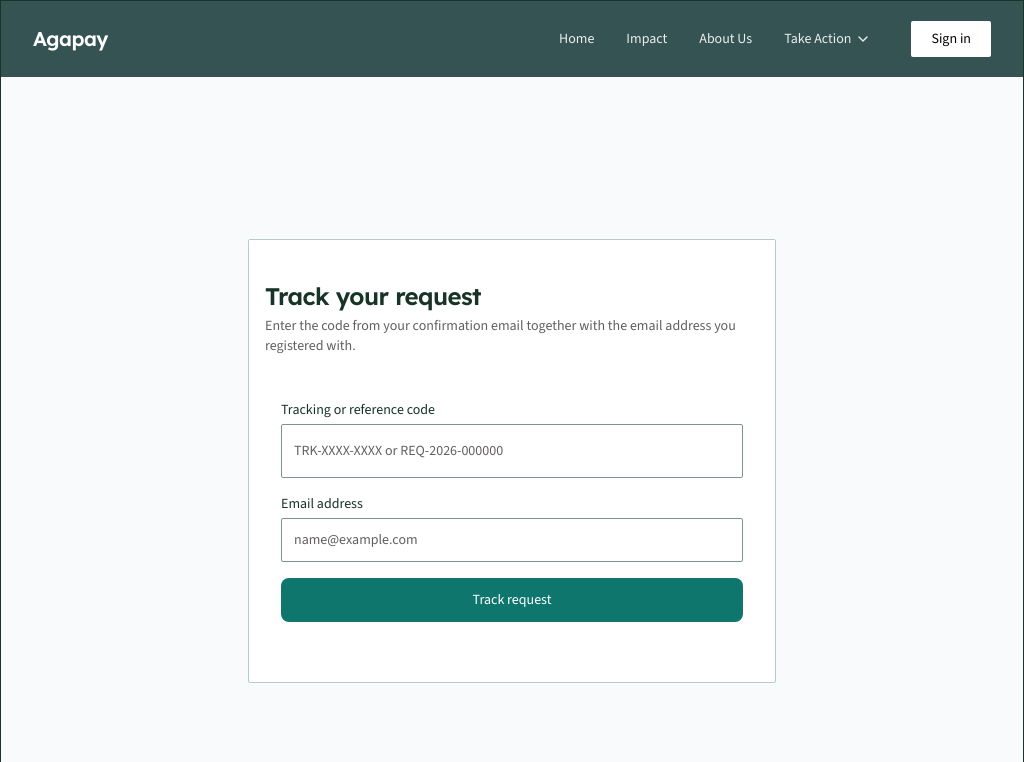
Test case: TrackAssistancePage › shows status, timeline, and pickup schedule for a match
Type "TRK-82K4-19Q7" into the field labelled "Tracking or reference code" at (512, 451), box top-left (281, 424), bottom-right (743, 478)
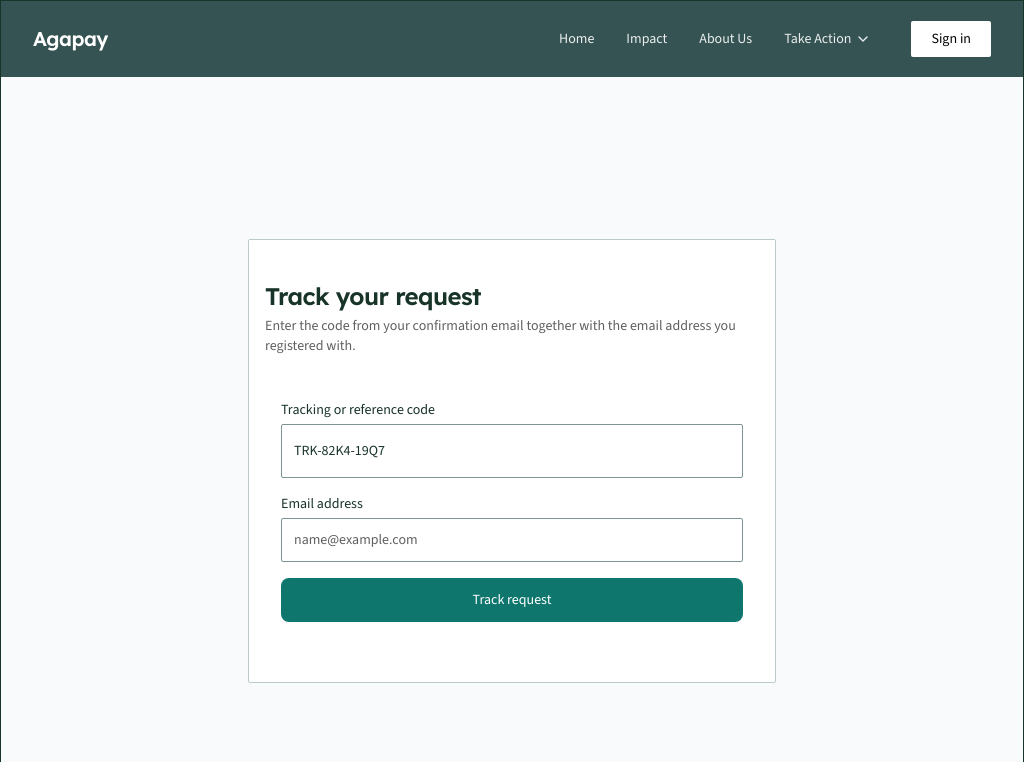
Type "maria@example.com" into the field labelled "Email address" at (512, 540), box top-left (281, 518), bottom-right (743, 562)
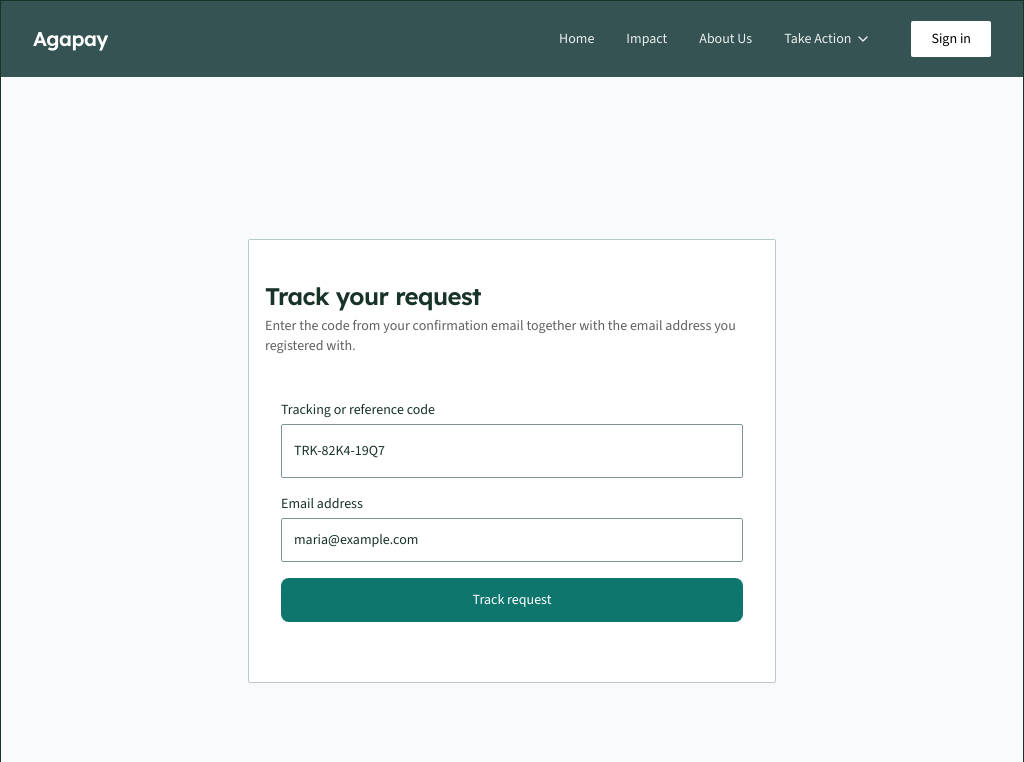
Click the button "Track request" at (512, 600), box top-left (281, 578), bottom-right (743, 622)
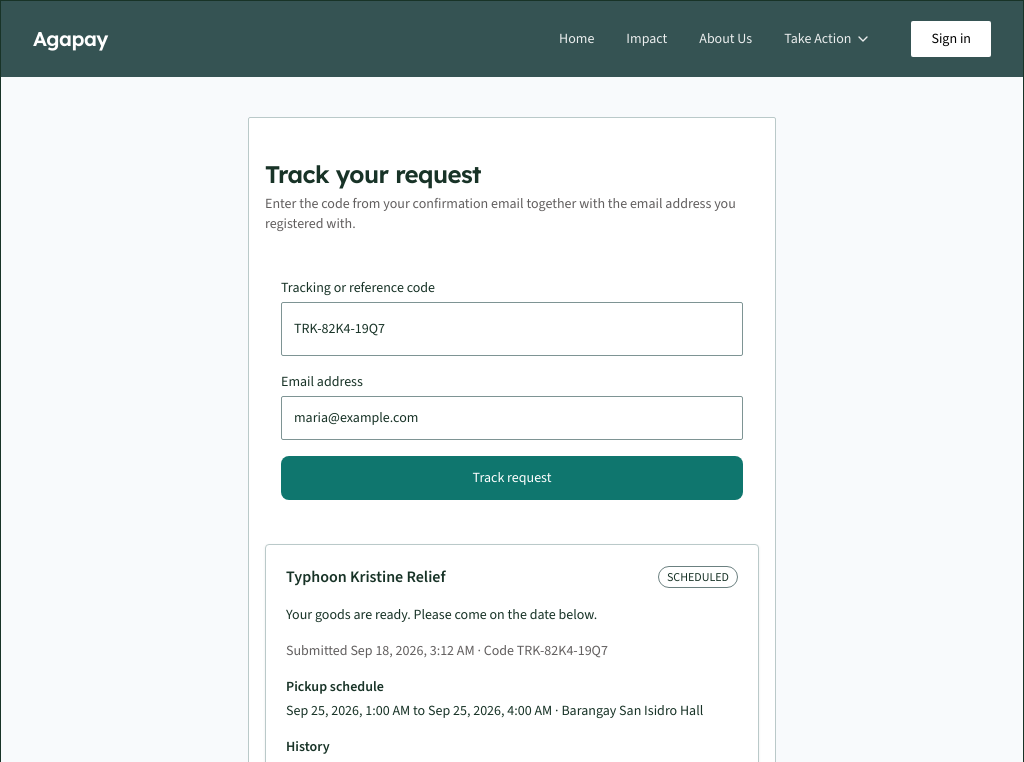
Now the heading "Typhoon Kristine Relief" is shown, box top-left (286, 565), bottom-right (446, 589)
Now the text "Barangay San Isidro Hall" is shown, box top-left (561, 701), bottom-right (703, 720)
